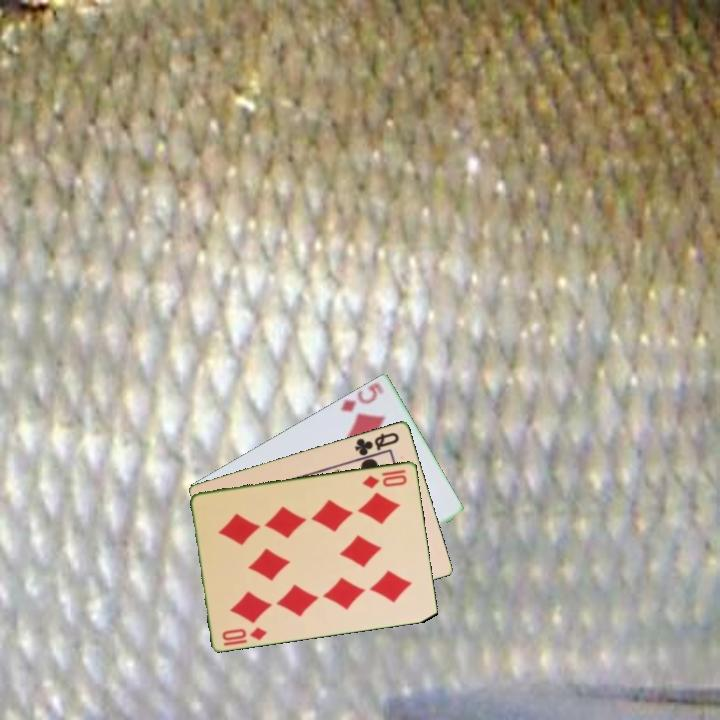10d: (359, 466, 410, 491), (219, 623, 270, 643)
5d: (337, 379, 387, 415)
Qc: (351, 428, 402, 458)
